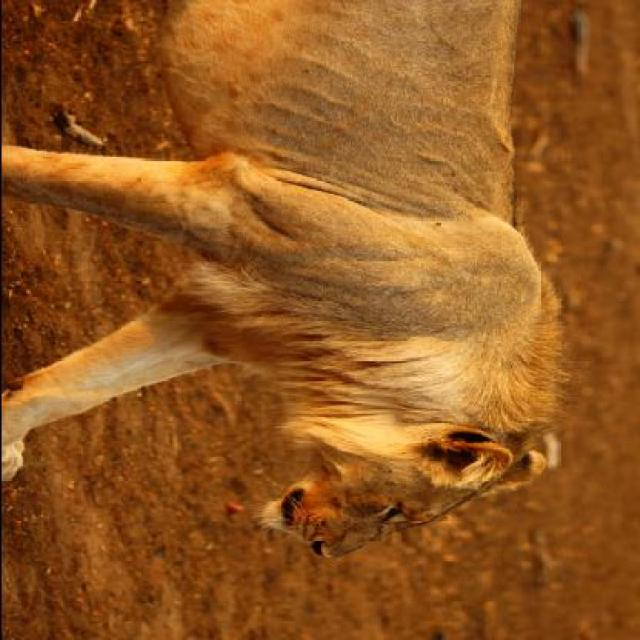Lion: (1, 0, 577, 569)
